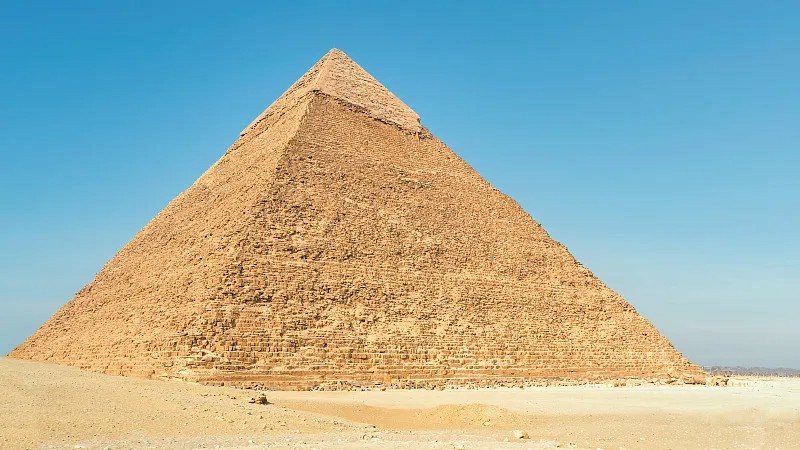Pyramid: (9, 47, 722, 387)
